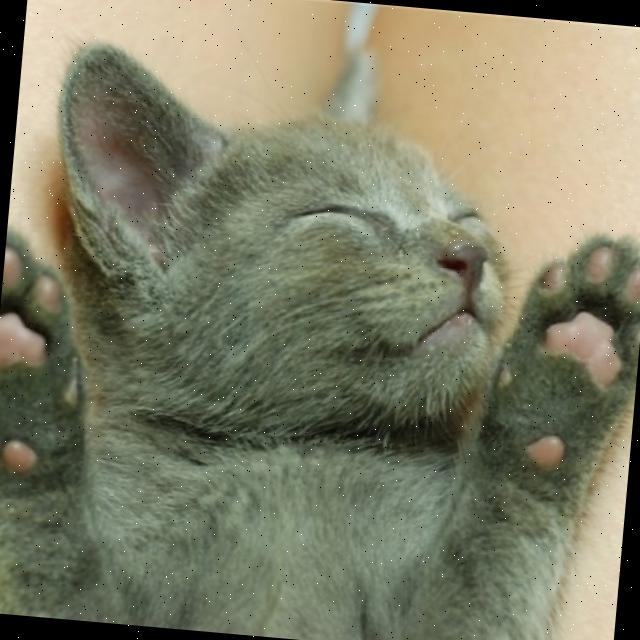Happy: (245, 128, 530, 415)
